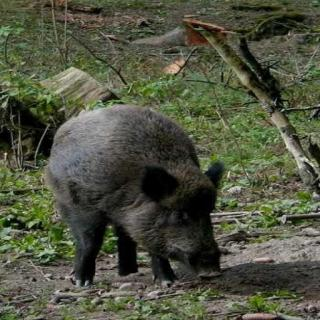Pig: (45, 104, 232, 287)
